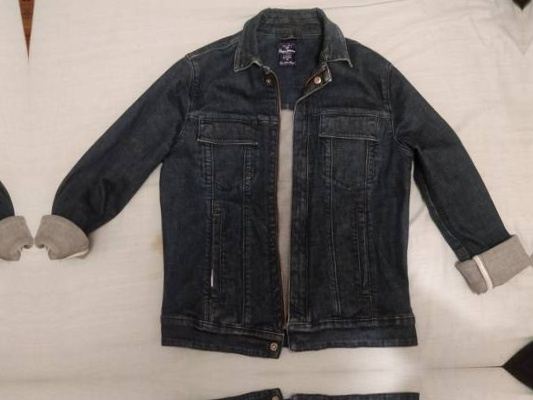Blazer: (37, 12, 533, 367), (0, 28, 28, 382), (48, 380, 533, 400), (523, 0, 533, 352), (0, 395, 39, 400)
